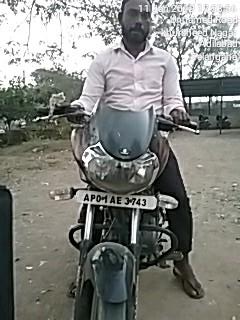plate: (76, 190, 160, 215)
